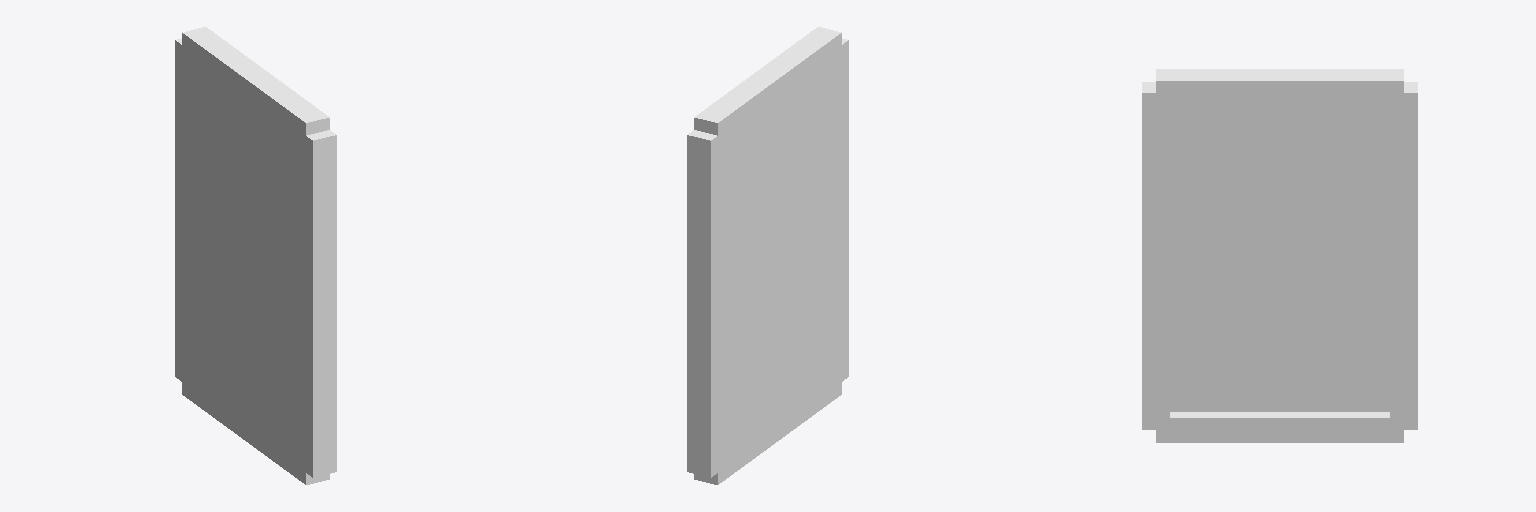
The model's file is Project-3.obj.
3 renders of one model, left to right at view 1: azimuth 30°, elevation 25°; view 2: azimuth 150°, elevation 25°; view 3: azimuth 270°, elevation 25°, orthographic.
Parts seen in each view (by area): view 1: object 1; view 2: object 1; view 3: object 1.
Part boxes in pixels (x1,y1,x2,y2): object 1: (175,27,336,484); object 1: (687,27,848,484); object 1: (1142,69,1417,442).
Bounding box in the file's own units: 0.2 × 2.9 × 2.